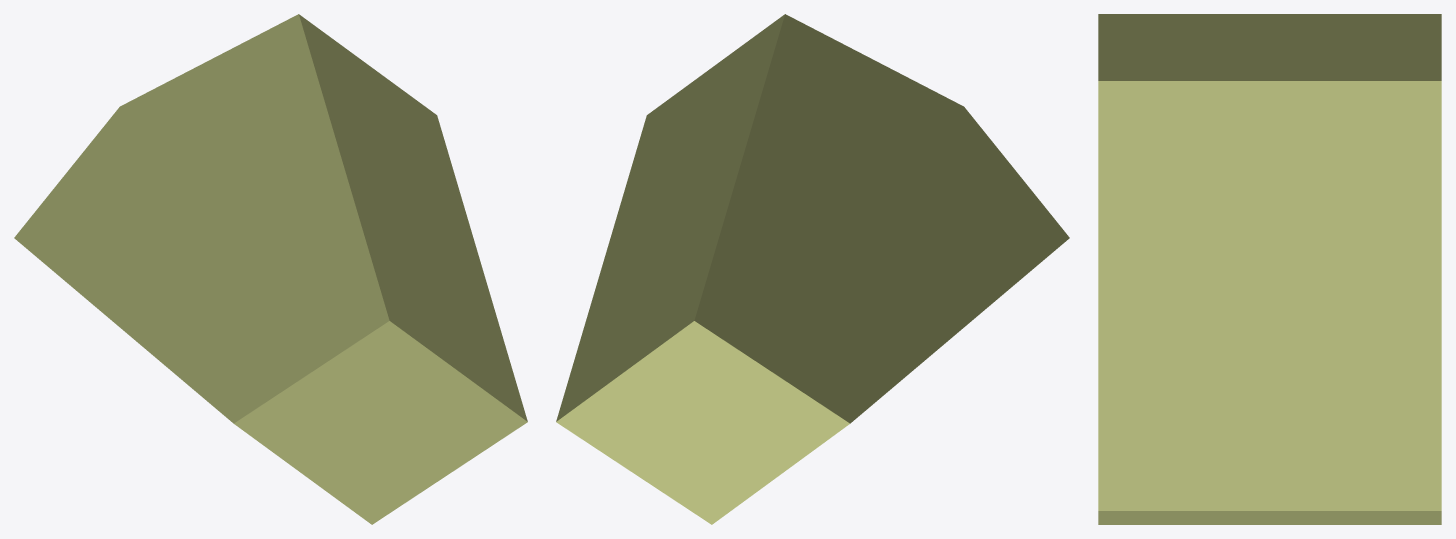
3 views of the same model, side by side, from view 1: azimuth 30°, elevation 25°; view 2: azimuth 150°, elevation 25°; view 3: azimuth 270°, elevation 25° (orthographic). The views are drawn at different scales.
Parts seen in each view (by area): view 1: 0_0_1_3_2_2_2_0_2; view 2: 0_0_1_3_2_2_2_0_2; view 3: 0_0_1_3_2_2_2_0_2.
Boxes of the visible parts, x1,y1,x2,y2 form: 0_0_1_3_2_2_2_0_2: (14, 14, 527, 524); 0_0_1_3_2_2_2_0_2: (556, 14, 1069, 524); 0_0_1_3_2_2_2_0_2: (1098, 14, 1441, 524).
Size of the model in its own units: 9.4 by 9.42 by 6.
